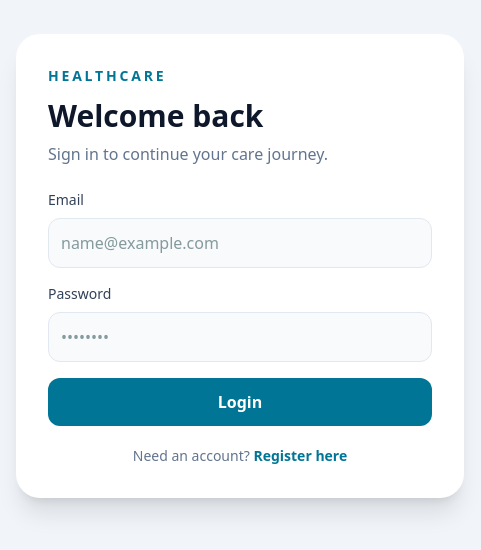
Test: LoginPage › shows invalid-credential errors inline and does not navigate away
The width and height of the screenshot is (481, 550).
Type "patient@example.com" into the field labelled "Email" at x=240, y=243, box [48,218,432,268]
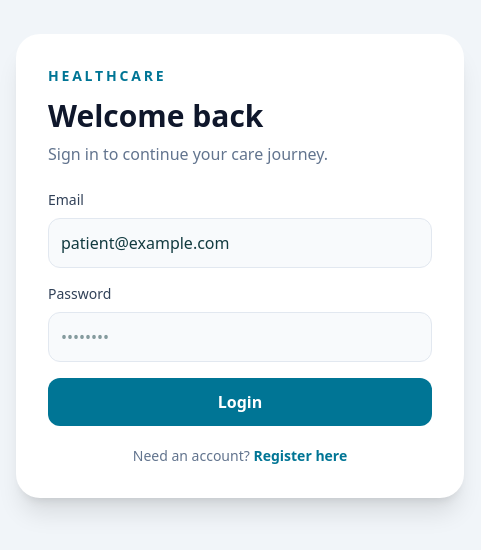
Type "wrong-password" into the password field labelled "Password" at x=240, y=337, box [48,312,432,362]
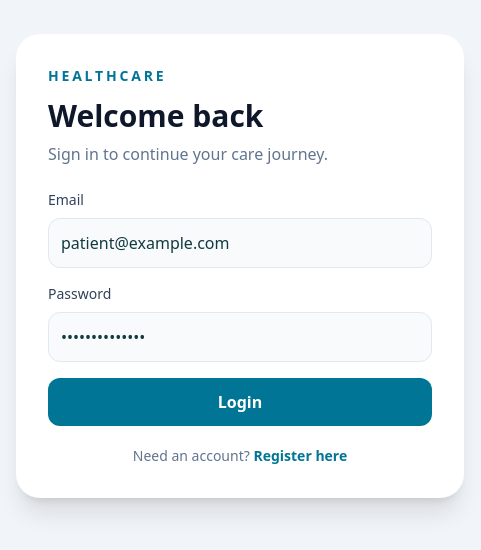
Click the button "Login" at x=240, y=402, box [48,378,432,426]
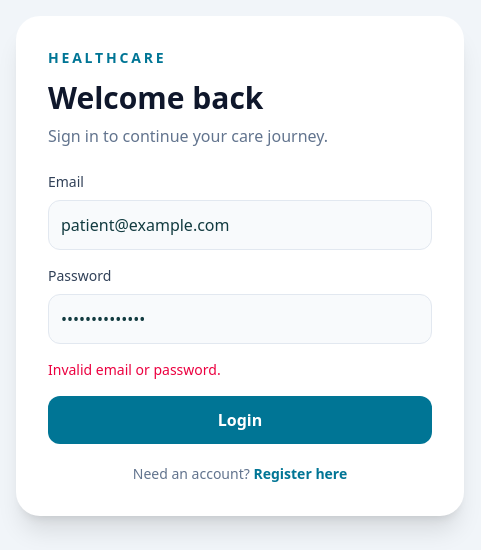
Check: the text "Invalid email or password." is shown, box [48,360,221,379]
